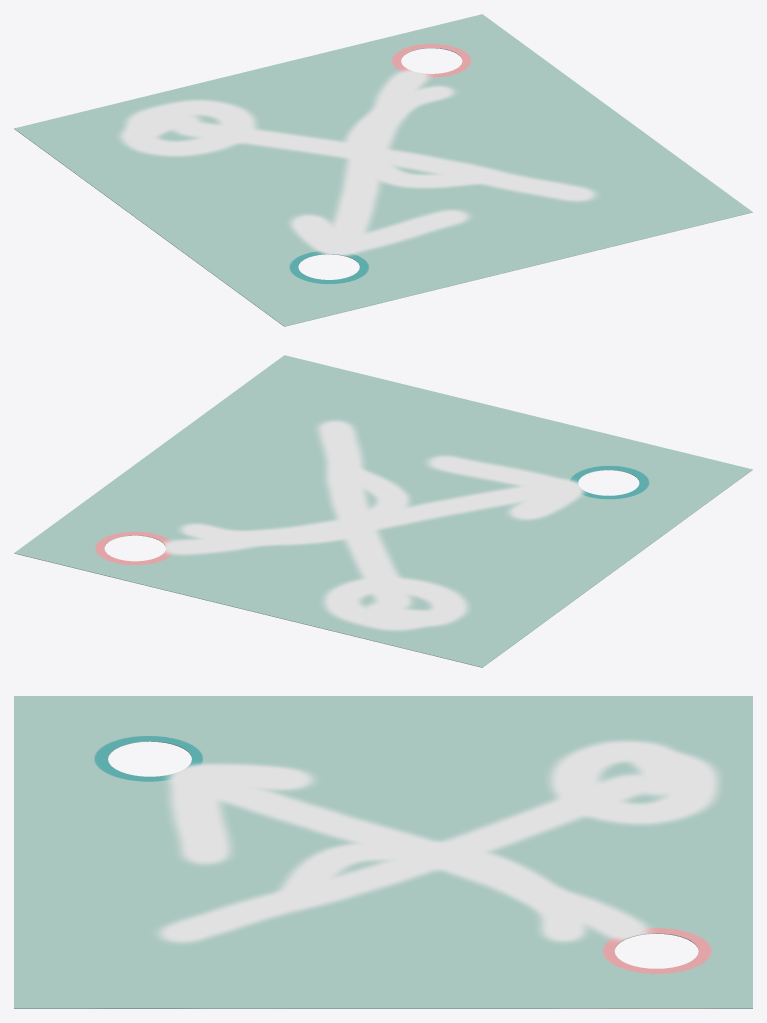
The model's file is plane.level.1.glb.
3 views of the same model, one above another, from view 1: azimuth 30°, elevation 25°; view 2: azimuth 150°, elevation 25°; view 3: azimuth 270°, elevation 25° (orthographic). The views are drawn at different scales.
Visible parts, largest first — view 1: plane; view 2: plane; view 3: plane.
Boxes of the visible parts, x1,y1,x2,y2 form: plane: [14, 14, 752, 326]; plane: [14, 355, 752, 667]; plane: [14, 696, 752, 1008].
Bounding box in the file's own units: 1200 × 1 × 1200.
1 material, 1 textured.
